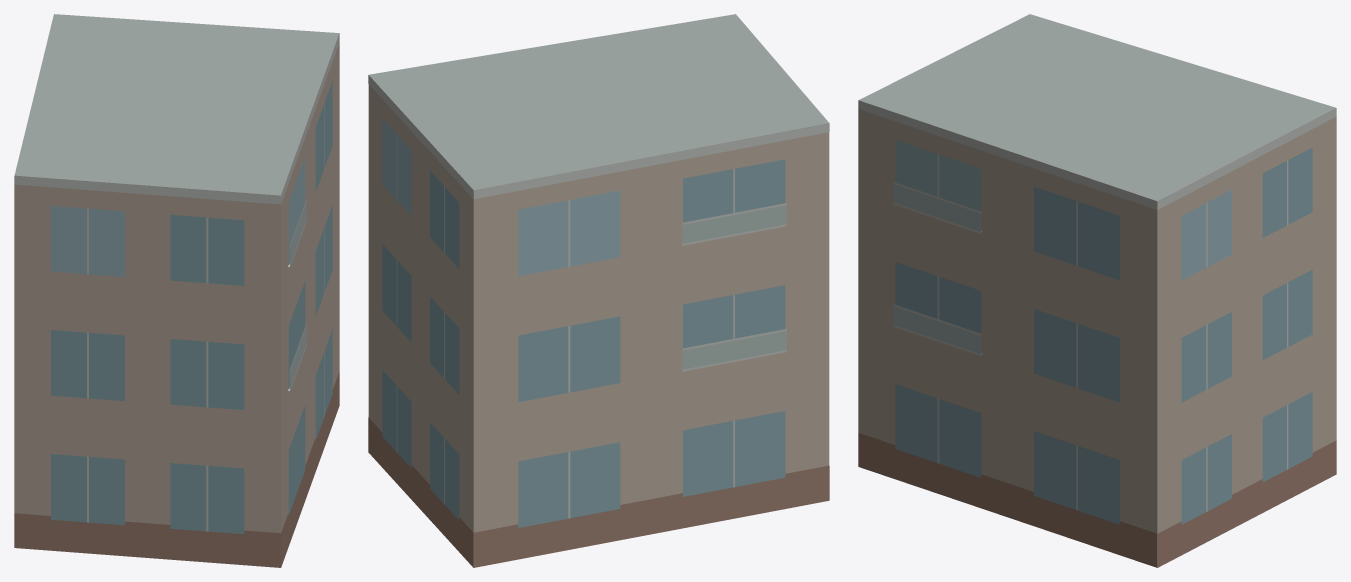
File: survey-upis-32637627.glb
The picture shows the model from 3 angles, left to right: view 1: azimuth 30°, elevation 25°; view 2: azimuth 150°, elevation 25°; view 3: azimuth 270°, elevation 25°; orthographic projection. The views are drawn at different scales.
Visible parts, largest first — view 1: survey-upis-32637627.tmp; view 2: survey-upis-32637627.tmp; view 3: survey-upis-32637627.tmp.
Part boxes in pixels (x1,y1,x2,y2): survey-upis-32637627.tmp: (14, 14, 339, 567); survey-upis-32637627.tmp: (368, 14, 829, 567); survey-upis-32637627.tmp: (858, 14, 1336, 567).
Size of the model in its own units: 11.19 by 10.2 by 12.06.
